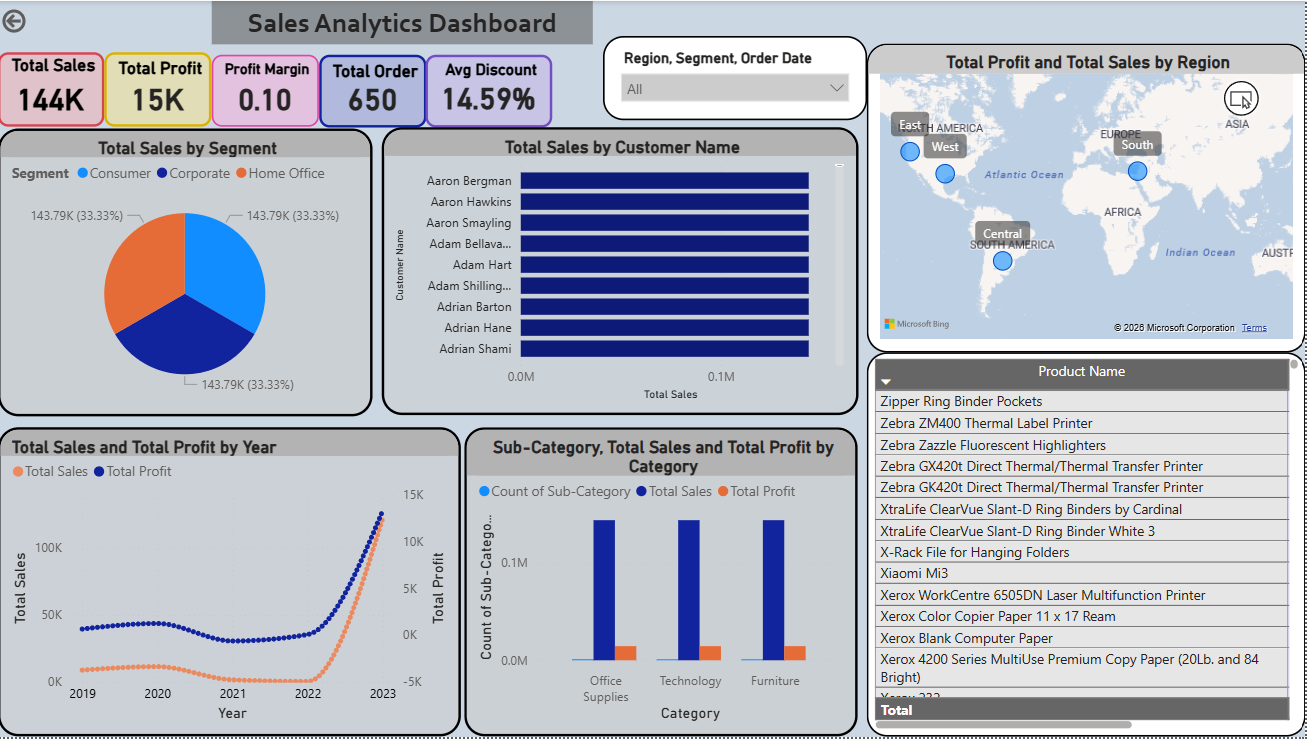

The page's visual inventory and layout, read from the dashboard file:
{"tool":"powerbi","page":{"name":"Dashboard","canvas":[1280,720],"ordinal":0},"visuals":[{"type":"textbox","box":[208.8,0,372.5,42.5],"z":0},{"type":"card","title":"Total Sales","fields":{"Values":["Sales Data.Total Sales"]},"box":[0,50,103.8,72.5],"z":1000},{"type":"card","title":"Total Profit","fields":{"Values":["Sales Data.Total Profit"]},"box":[103.8,50,105,72.5],"z":2000},{"type":"card","title":"Total Order","fields":{"Values":["Sales Data.Total Orders"]},"box":[313.8,52.5,105,71.2],"z":3000},{"type":"card","title":"Avg Discount","fields":{"Values":["Sales Data.Avg Discount"]},"box":[418.8,52.5,123.8,71.2],"z":4000},{"type":"card","title":"Profit Margin","fields":{"Values":["Sales Data.Profit Margin % (No Zero)"]},"box":[208.8,52.5,105,70],"z":5000},{"type":"lineChart","fields":{"Category":["Sales Data.Order Date.Variation.Date Hierarchy.Year","Sales Data.Order Date.Variation.Date Hierarchy.Quarter","Sales Data.Order Date.Variation.Date Hierarchy.Month"],"Y":["Sales Data.Total Sales"],"Y2":["Sales Data.Total Profit"]},"box":[0,417.5,452.5,302.5],"z":6000},{"type":"clusteredColumnChart","title":"Sub-Category, Total Sales and Total Profit by Category","fields":{"Y":["Product Data.Sub-Category","Sales Data.Total Sales","Sales Data.Total Profit"],"Category":["Product Data.Category"]},"box":[456.2,417.5,385,302.5],"z":7000},{"type":"barChart","fields":{"Category":["Customer Data.Customer Name","Product Data.Product Name"],"Y":["Sales Data.Total Sales"]},"box":[375,123.8,466.2,281.2],"z":8000},{"type":"actionButton","box":[0,0,31.2,40],"z":9000},{"type":"tableEx","fields":{"Values":["Product Data.Product Name","Sales Data.Profit Margin % (No Zero)","Sales Data.Total Sales","Sales Data.Total Profit"]},"box":[850,343.8,430,376.2],"z":10000},{"type":"map","fields":{"Category":["Customer Data.Region","Customer Data.Country"],"Size":["Sales Data.Total Sales"],"Y":["Sales Data.Total Profit"]},"box":[850,41.2,430,302.5],"z":11000},{"type":"pieChart","fields":{"Category":["Customer Data.Segment"],"Y":["Sales Data.Total Sales"]},"box":[0,125,366.2,281.2],"z":12000},{"type":"slicer","fields":{"Values":["Customer Data.Region","Customer Data.Segment","Sales Data.Order Date"]},"box":[591.2,33.8,258.8,82.5],"z":13000}]}

Visuals, with their boxes in screenshot pixels (x1, y1, x2, y2):
textbox: region(217, 7, 592, 50)
"Total Sales" card: region(7, 57, 111, 130)
"Total Profit" card: region(111, 57, 217, 130)
"Total Order" card: region(323, 60, 429, 131)
"Avg Discount" card: region(429, 60, 553, 131)
"Profit Margin" card: region(217, 60, 323, 130)
lineChart - Sales Data.Order Date.Variation.Date Hierarchy.Year x Sales Data.Order Date.Variation.Date Hierarchy.Quarter: region(7, 427, 462, 732)
"Sub-Category, Total Sales and Total Profit by Category" clusteredColumnChart: region(466, 427, 854, 732)
barChart - Customer Data.Customer Name x Product Data.Product Name: region(384, 131, 854, 415)
actionButton: region(7, 7, 38, 47)
tableEx - Product Data.Product Name x Sales Data.Profit Margin % (No Zero): region(863, 353, 1296, 732)
map - Customer Data.Region x Customer Data.Country: region(863, 48, 1296, 353)
pieChart - Customer Data.Segment x Sales Data.Total Sales: region(7, 133, 376, 416)
slicer - Customer Data.Region x Customer Data.Segment: region(602, 41, 863, 124)
